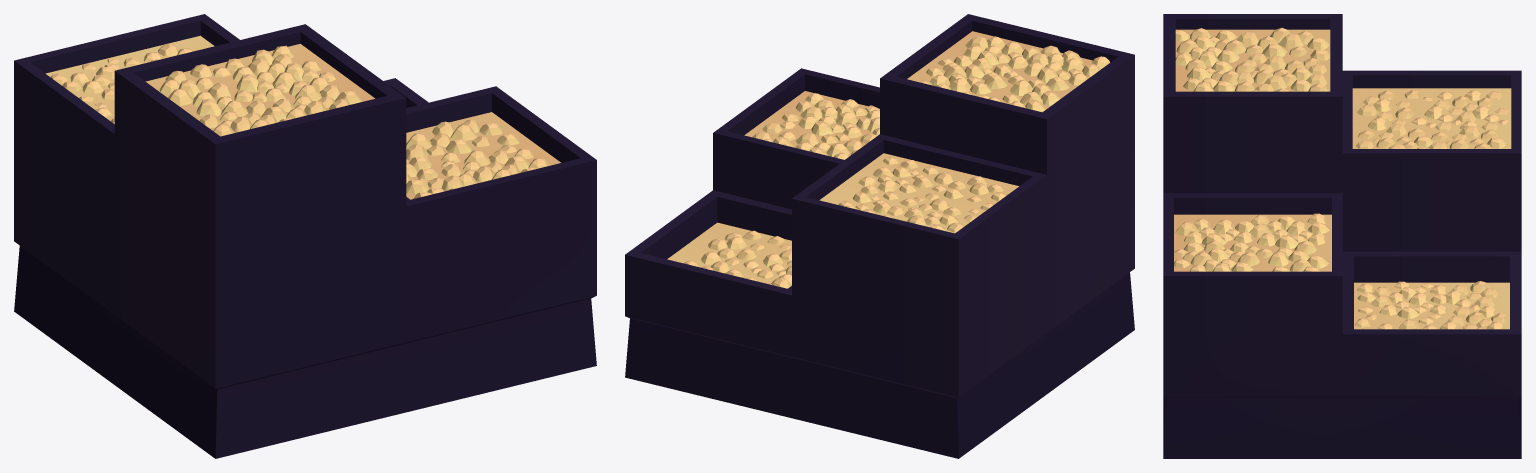
Rendered from Garden_SquarePlanter01.fbx.
The picture shows the model from 3 angles, left to right: view 1: azimuth 30°, elevation 25°; view 2: azimuth 150°, elevation 25°; view 3: azimuth 270°, elevation 25°; orthographic projection. The views are drawn at different scales.
Parts seen in each view (by area): view 1: Box Planter; view 2: Box Planter; view 3: Box Planter.
Part boxes in pixels (box(x1,y1,x2,y2)): Box Planter: box(14, 14, 596, 458); Box Planter: box(625, 14, 1134, 458); Box Planter: box(1163, 14, 1521, 458).
Bounding box in the file's own units: 85.05 × 67.04 × 77.81.
